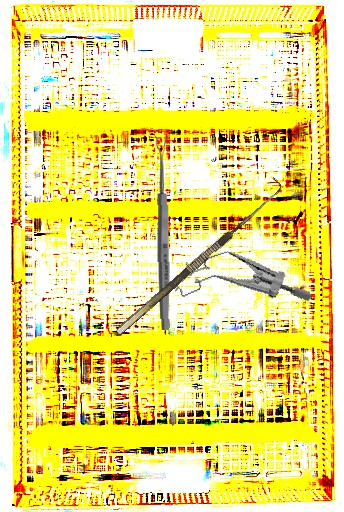Hook Surgical: (108, 176, 287, 336)
Speculum: (167, 227, 313, 341)
Surgical Spoon: (155, 136, 172, 331)
